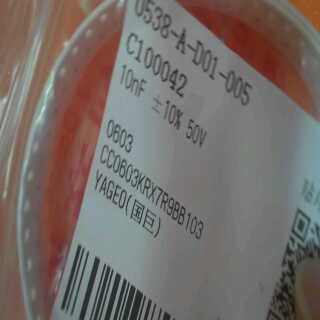10nF: (116, 63, 147, 100)
